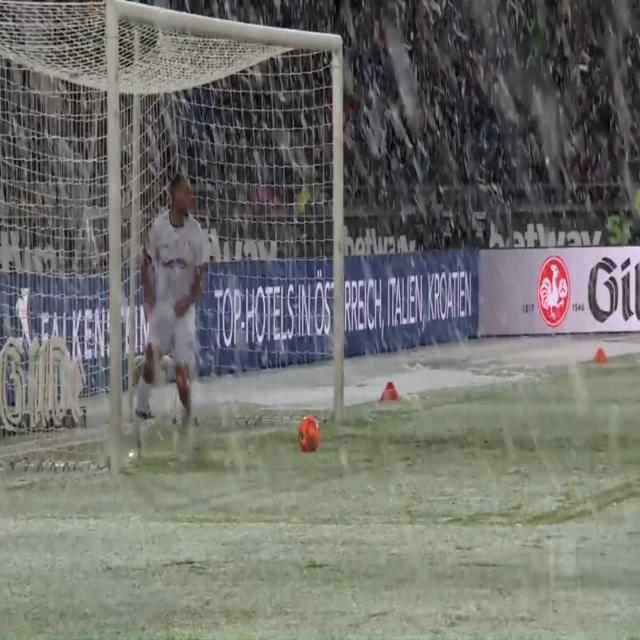ball: (287, 406, 326, 459)
player: (119, 149, 209, 493)
